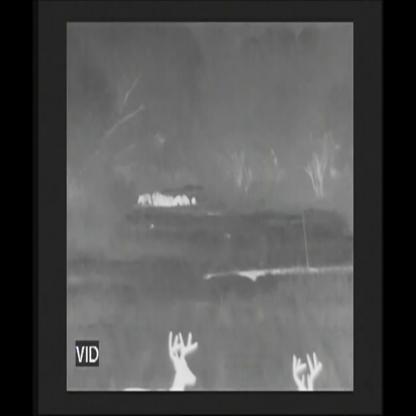rehkitze: (166, 329, 204, 395), (288, 353, 322, 391), (153, 189, 196, 206), (137, 192, 151, 212)
